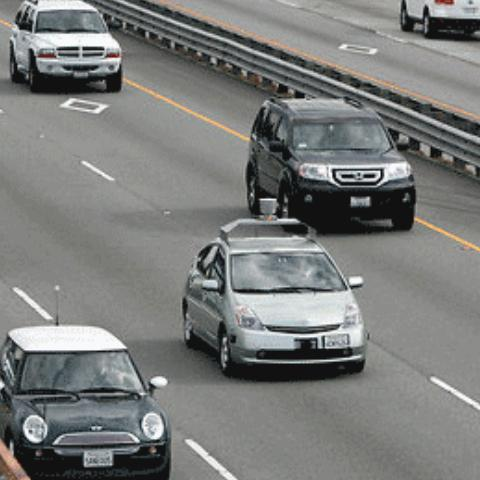car: (172, 230, 376, 379), (245, 92, 438, 220), (0, 331, 168, 475), (13, 1, 128, 84)
